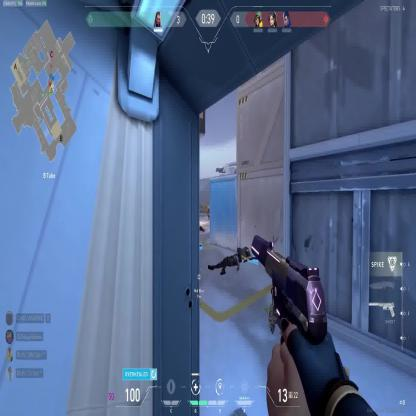enemy: (206, 203, 211, 220)
enemy_head: (208, 204, 210, 206)
